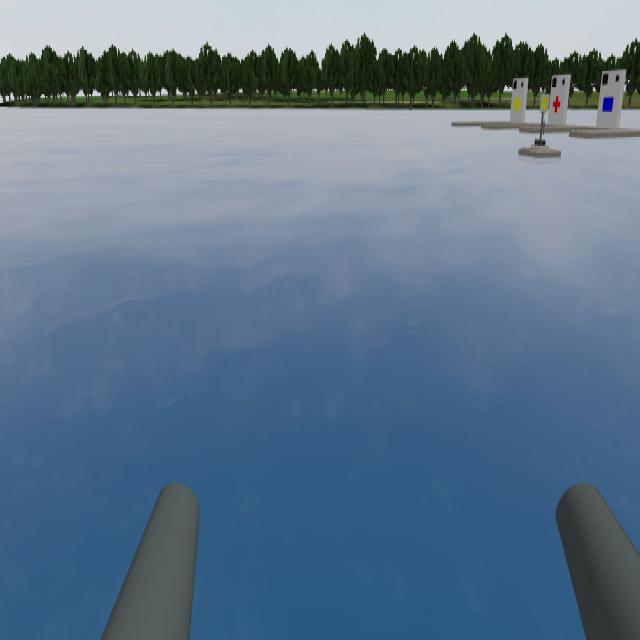yellow_pole: (535, 88, 554, 117)
